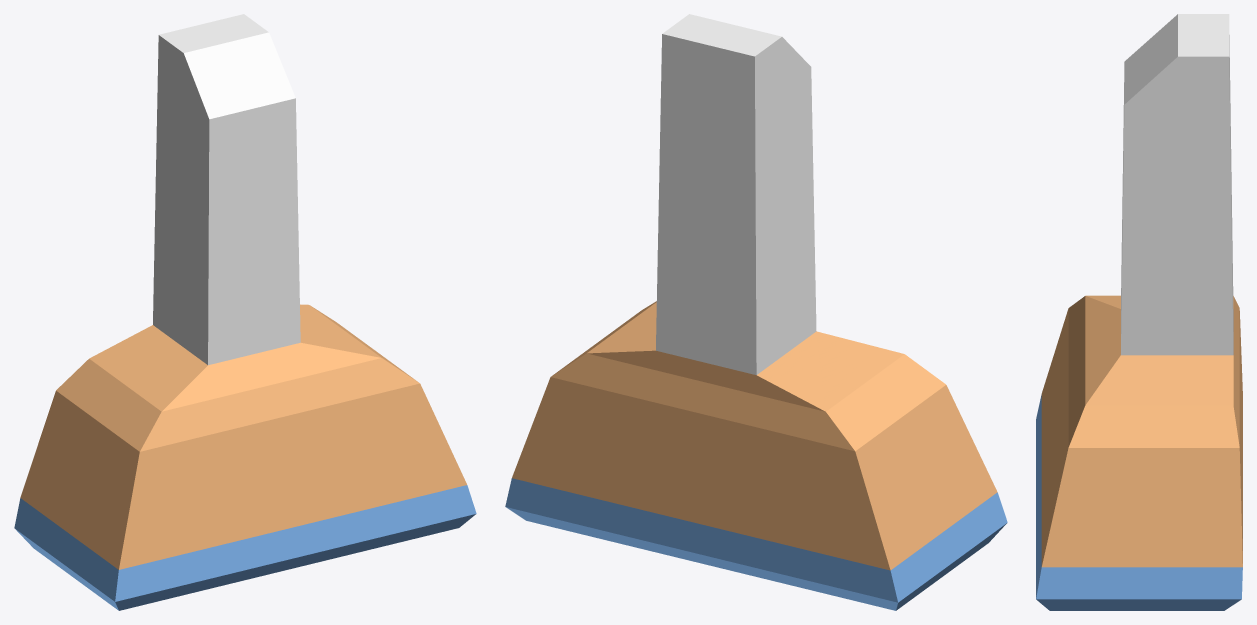
File: Chimney_3.fbx
3 views of the same model, side by side, from view 1: azimuth 30°, elevation 25°; view 2: azimuth 150°, elevation 25°; view 3: azimuth 270°, elevation 25° (orthographic). The views are drawn at different scales.
Visible parts, largest first — view 1: Chimney_3; view 2: Chimney_3; view 3: Chimney_3.
Part boxes in pixels (bbox=[...]): Chimney_3: bbox=[14, 14, 476, 610]; Chimney_3: bbox=[505, 14, 1007, 610]; Chimney_3: bbox=[1036, 14, 1242, 610].
Size of the model in its own units: 1.11 by 1.41 by 0.5403.
